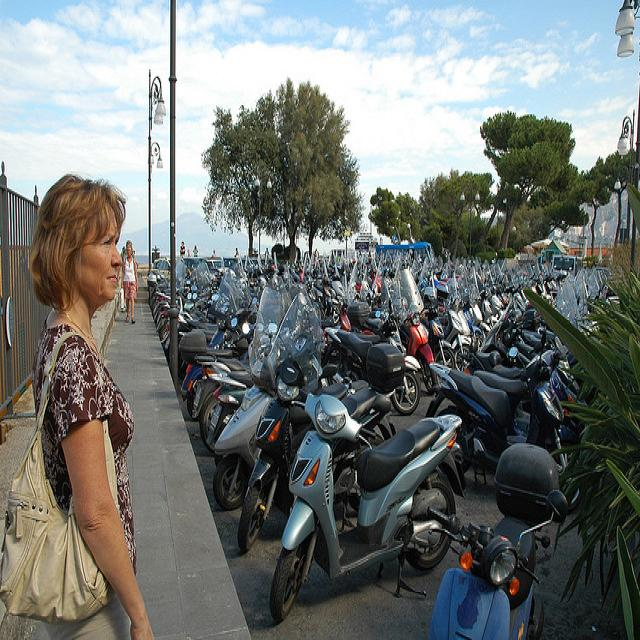motor: (269, 388, 467, 624), (238, 297, 405, 550), (349, 275, 578, 415), (427, 436, 570, 632), (428, 356, 584, 509), (218, 283, 292, 505), (323, 286, 420, 411), (346, 265, 436, 393), (179, 324, 258, 417), (206, 372, 253, 452), (421, 273, 456, 369), (442, 307, 479, 368), (483, 260, 504, 320), (466, 286, 491, 336)
